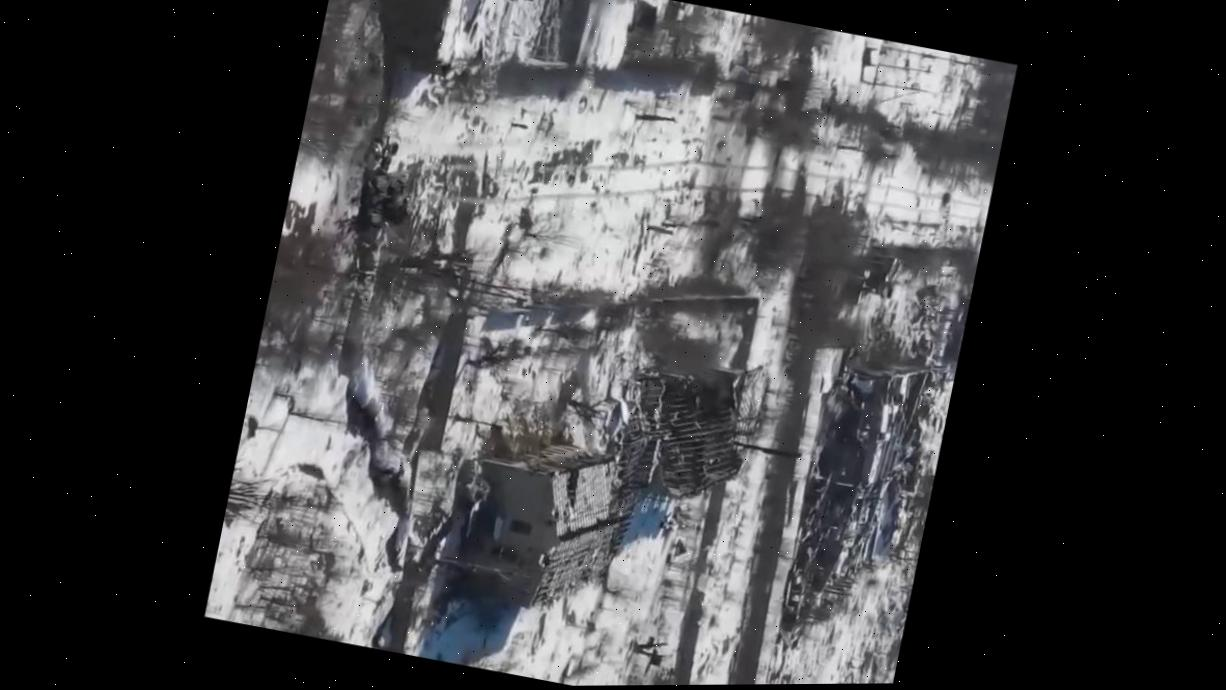tank: (356, 163, 416, 230)
